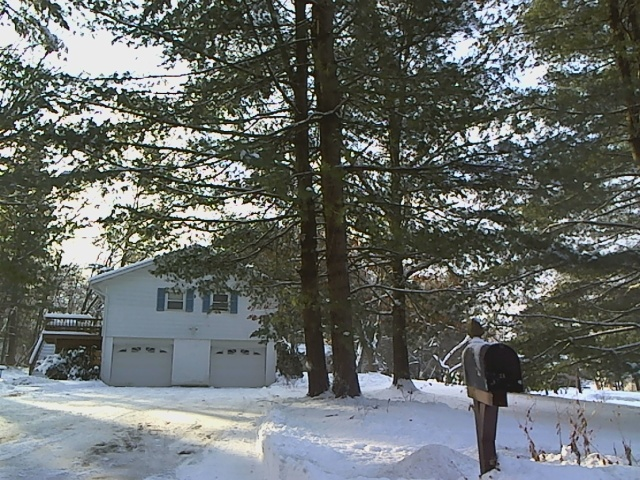Unploughed: (9, 385, 265, 476)
